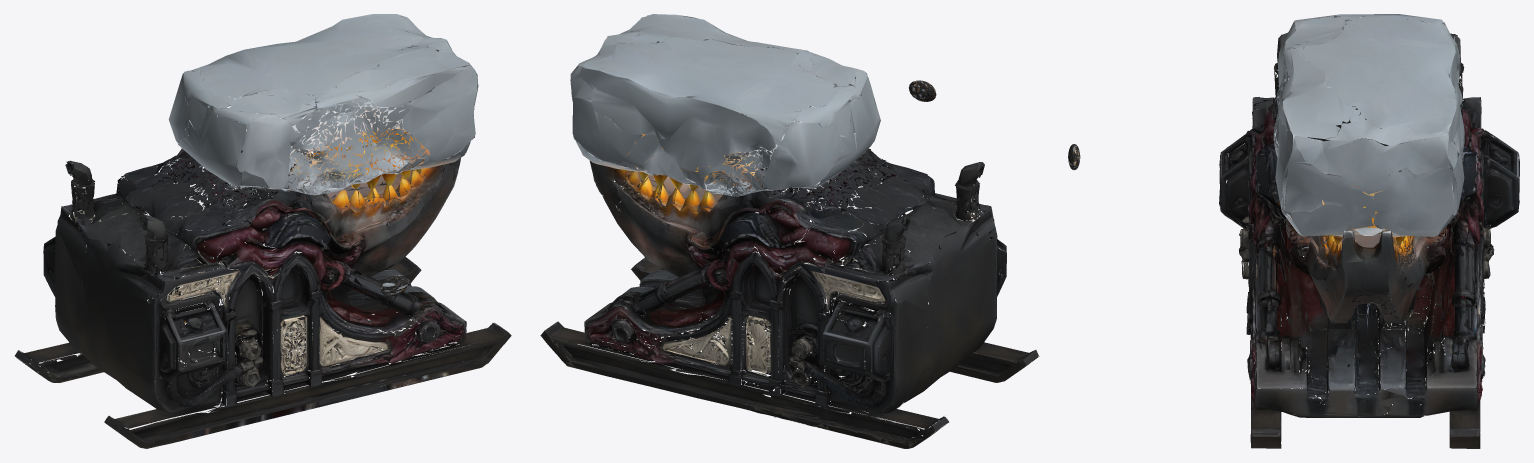
File: traversal_thermal_ice_underbite.glb
3 renders of one model, left to right at view 1: azimuth 30°, elevation 25°; view 2: azimuth 150°, elevation 25°; view 3: azimuth 270°, elevation 25°, orthographic. The views are drawn at different scales.
Parts seen in each view (by area): view 1: node_0; view 2: node_0; view 3: node_0.
Part boxes in pixels (x1,y1,x2,y2): node_0: (15, 14, 511, 448); node_0: (540, 14, 1039, 448); node_0: (1219, 14, 1519, 448).
Size of the model in its own units: 0.9594 by 0.6826 by 0.8606.
Materials: 1 (1 with a texture image).
